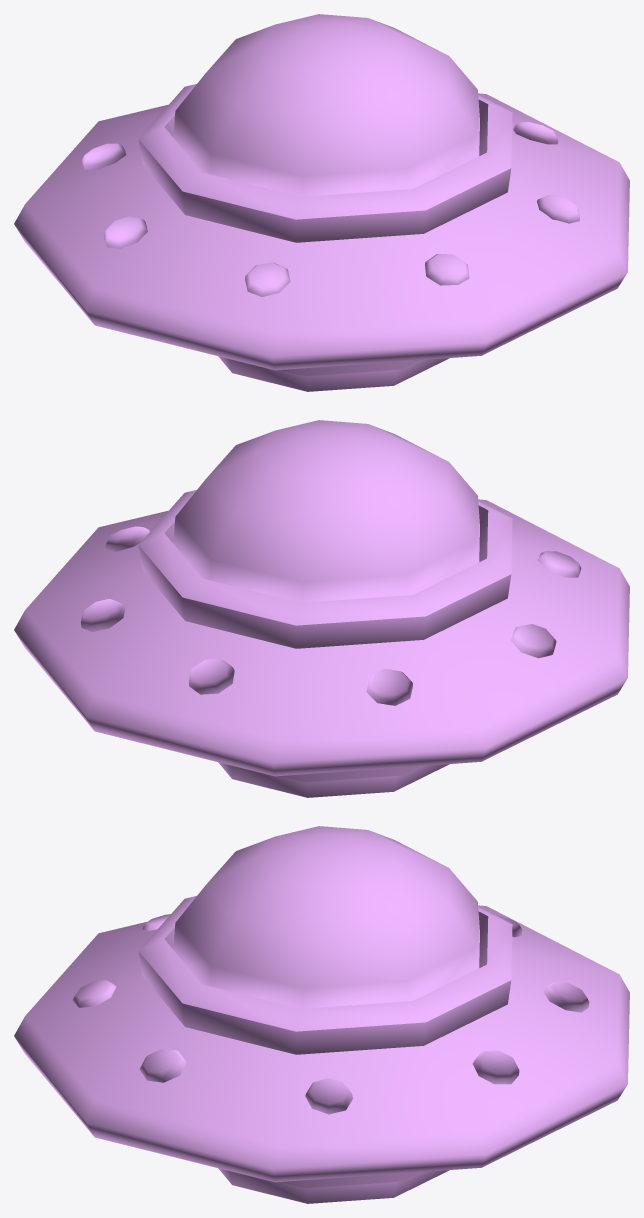
Rendered from UFO1.fbx.
3 views of the same model, one above another, from view 1: azimuth 30°, elevation 25°; view 2: azimuth 150°, elevation 25°; view 3: azimuth 270°, elevation 25° (orthographic).
Parts seen in each view (by area): view 1: UFO; view 2: UFO; view 3: UFO.
Part boxes in pixels (box(x1,y1,x2,y2)): UFO: box(14, 14, 629, 391); UFO: box(14, 420, 629, 797); UFO: box(14, 826, 629, 1203).
Size of the model in its own units: 730 by 394 by 720.
